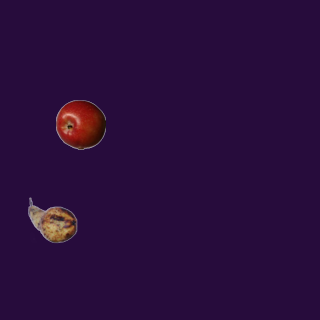Apple Braeburn: (55, 99, 105, 149)
Pear Abate: (27, 195, 77, 245)
